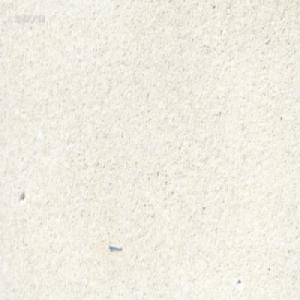Nail: (107, 240, 122, 250)
